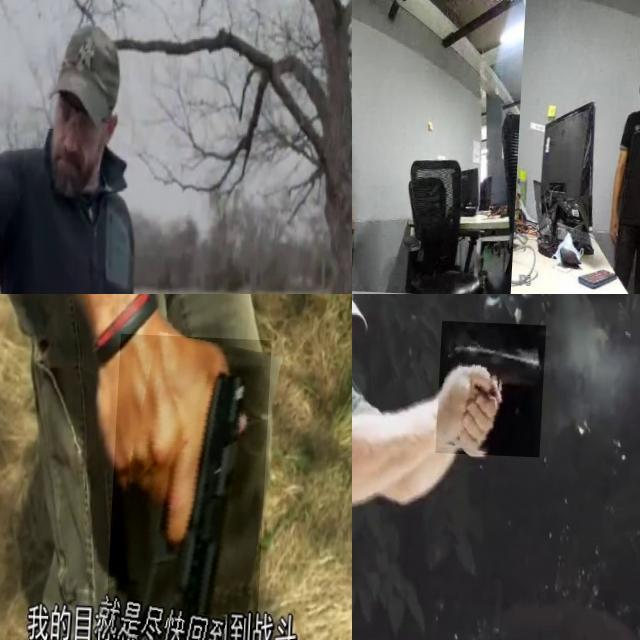-: (352, 227, 358, 265)
gun-knife-thesis - v11 Yolov5 augmented: (111, 331, 275, 640), (439, 317, 548, 453), (0, 35, 77, 213)
